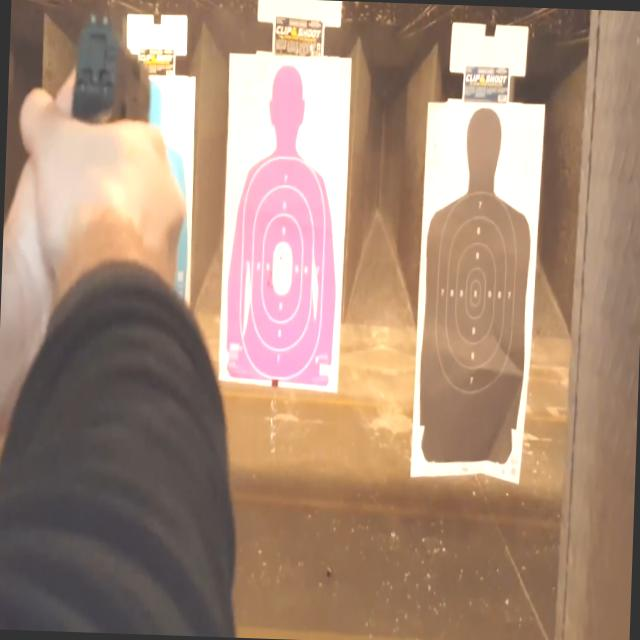handgun: (62, 8, 175, 208)
